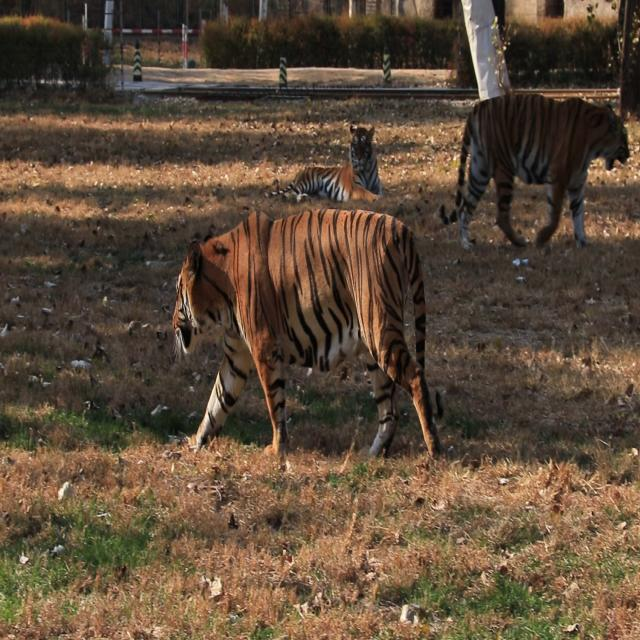Tiger: (170, 187, 447, 492), (440, 84, 630, 251), (256, 121, 390, 202)
